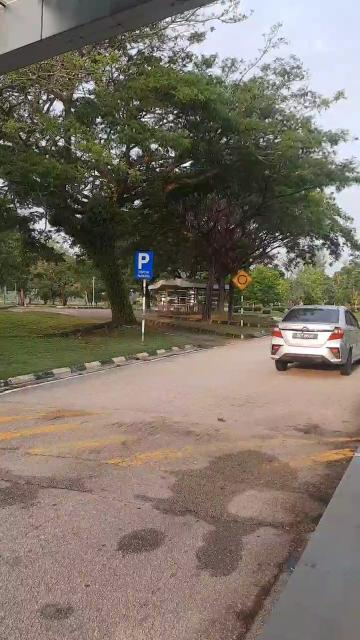License_Plate: (292, 332, 320, 342)
car: (272, 301, 360, 377)
